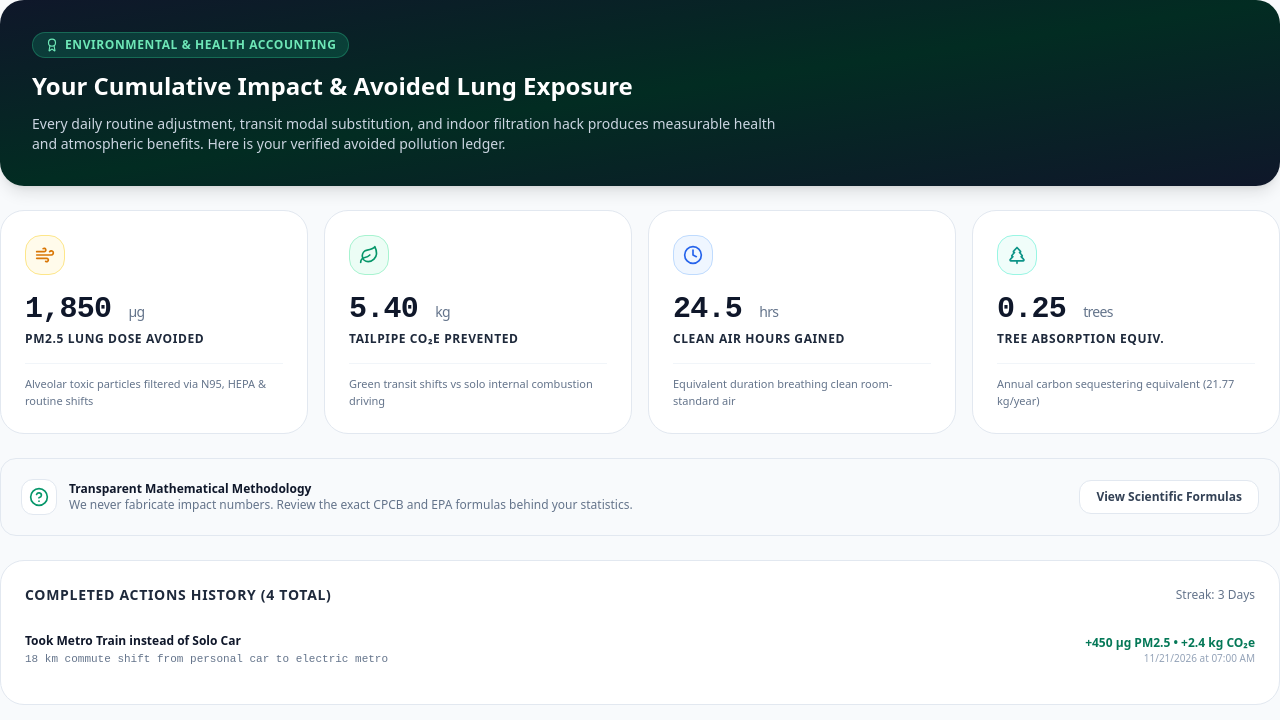
Test: ImpactTrackerView Component Tests › opens and displays scientific methodology and formula modal
Click the button "View Scientific Formulas".
click(1169, 497)  # box [1079, 480, 1259, 514]
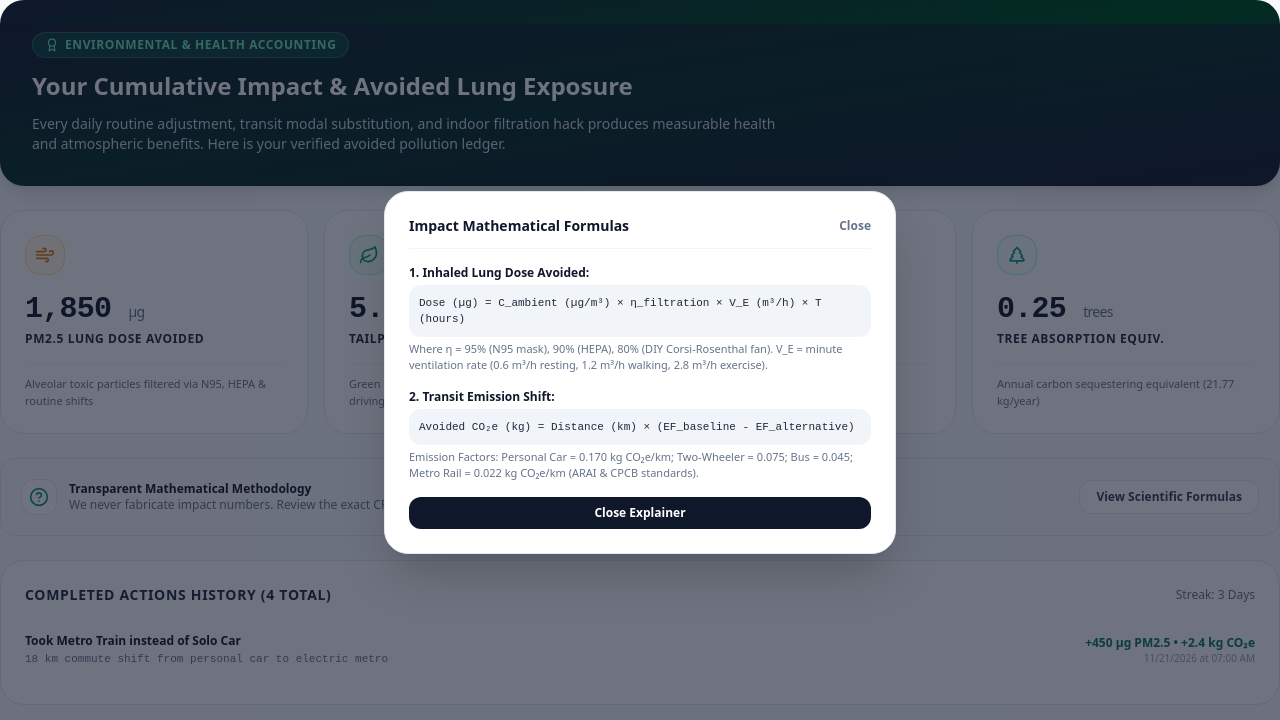
Check: the heading "Impact Mathematical Formulas" is shown, box [409, 216, 629, 236]
Check: the text "1. Inhaled Lung Dose Avoided:" is shown, box [409, 264, 589, 280]
